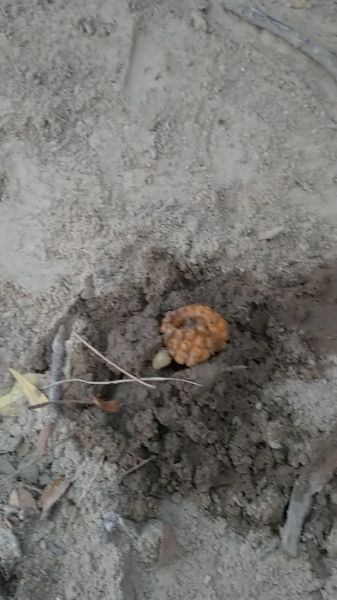eggs: (158, 302, 233, 374)
